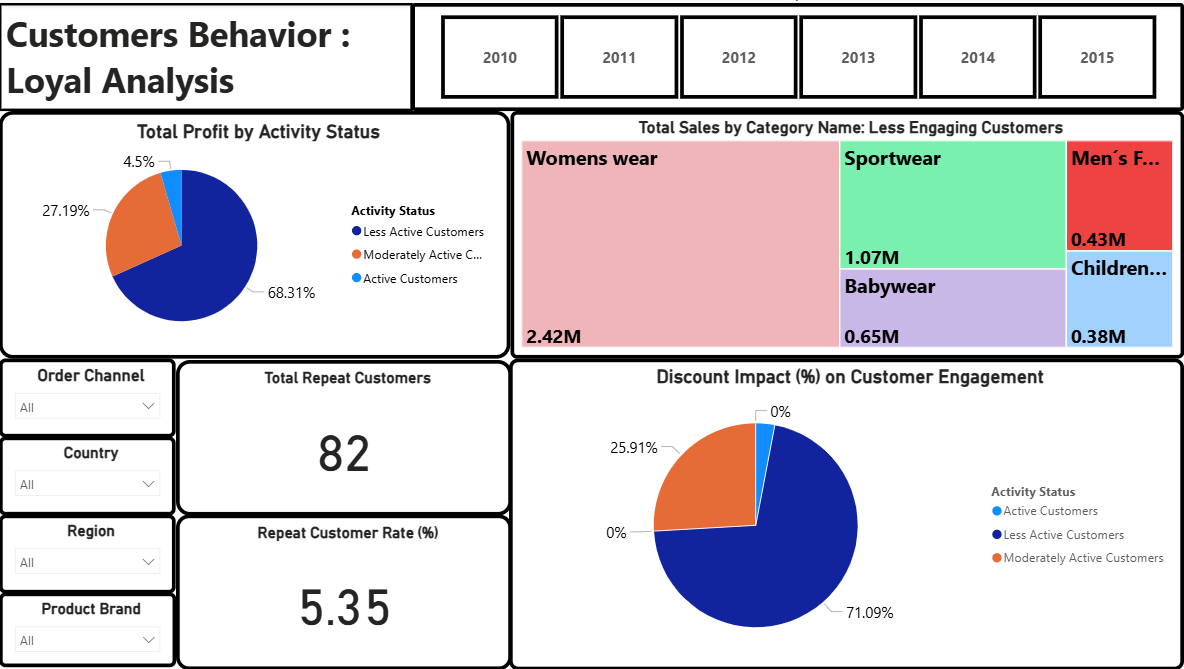

What the dashboard file says about the page in this screenshot:
{"tool":"powerbi","page":{"name":"Loyal Customers Behavioral Patterns","canvas":[1280,720],"ordinal":1},"visuals":[{"type":"textbox","box":[0,0,446.9,116.6],"z":0},{"type":"pieChart","title":"Total Profit by Activity Status","fields":{"Category":["Loyal_Cusotmers_DB.Activity Status"],"Y":["OrderDetails (2).Total_Profit"]},"box":[0,116.6,552.2,267.2],"z":1000},{"type":"slicer","fields":{"Values":["OrdersHeader (2).Order_Date.Variation.Date Hierarchy.Year"]},"box":[445.3,0,833.9,116.6],"z":2000},{"type":"treemap","title":"Total Sales by Category Name: Less Engaging Customers","fields":{"Group":["Categories.CategoryName","Loyal_Cusotmers_DB.Activity Status"],"Values":["Sum(OrderDetails (2).Total_Sales)"]},"box":[552.2,116.6,727,267.2],"z":3000},{"type":"slicer","title":"Region","fields":{"Values":["Customers.City_Original"]},"box":[0,551.8,190.9,85],"z":4000},{"type":"slicer","title":"Country","fields":{"Values":["Customers.Country_Original"]},"box":[0,468.7,190.9,85],"z":5000},{"type":"card","title":"Repeat Customer Rate (%)","fields":{"Values":["Categories.Repeat Customer Rate (%)"]},"box":[190.9,551.8,362.8,168.2],"z":6000},{"type":"pieChart","title":"Discount Impact (%)  on Customer Engagement ","fields":{"Y":["Categories.Discount Impact (%)","Sum(OrderDetails (2).Total_Sales)"],"Category":["Loyal_Cusotmers_DB.Activity Status"]},"box":[550.5,383.8,728.7,336.8],"z":7000},{"type":"card","title":"Total Repeat Customers","fields":{"Values":["CountNonNull(Loyal_Cusotmers_DB.Customer_ID)"]},"box":[190.9,385.5,362.8,168.2],"z":8000},{"type":"slicer","title":"Order Channel","fields":{"Values":["SUPPLIER.SUPPLIERCOUNTRY"]},"box":[0,383.6,190.9,85],"z":9000},{"type":"slicer","title":"Product Brand","fields":{"Values":["Products.ProductName"]},"box":[0,636.4,191.1,81],"z":10000}]}

Visuals, with their boxes in screenshot pixels (x1, y1, x2, y2), scaled from the page's 1280x720 canvas onto the 1184x669 screenshot:
textbox: (0, 0, 413, 108)
"Total Profit by Activity Status" pieChart: (0, 108, 511, 357)
slicer - OrdersHeader (2).Order_Date.Variation.Date Hierarchy.Year: (412, 0, 1183, 108)
"Total Sales by Category Name: Less Engaging Customers" treemap: (511, 108, 1183, 357)
"Region" slicer: (0, 513, 177, 592)
"Country" slicer: (0, 436, 177, 514)
"Repeat Customer Rate (%)" card: (177, 513, 512, 668)
"Discount Impact (%)  on Customer Engagement " pieChart: (509, 357, 1183, 668)
"Total Repeat Customers" card: (177, 358, 512, 514)
"Order Channel" slicer: (0, 356, 177, 435)
"Product Brand" slicer: (0, 591, 177, 667)
